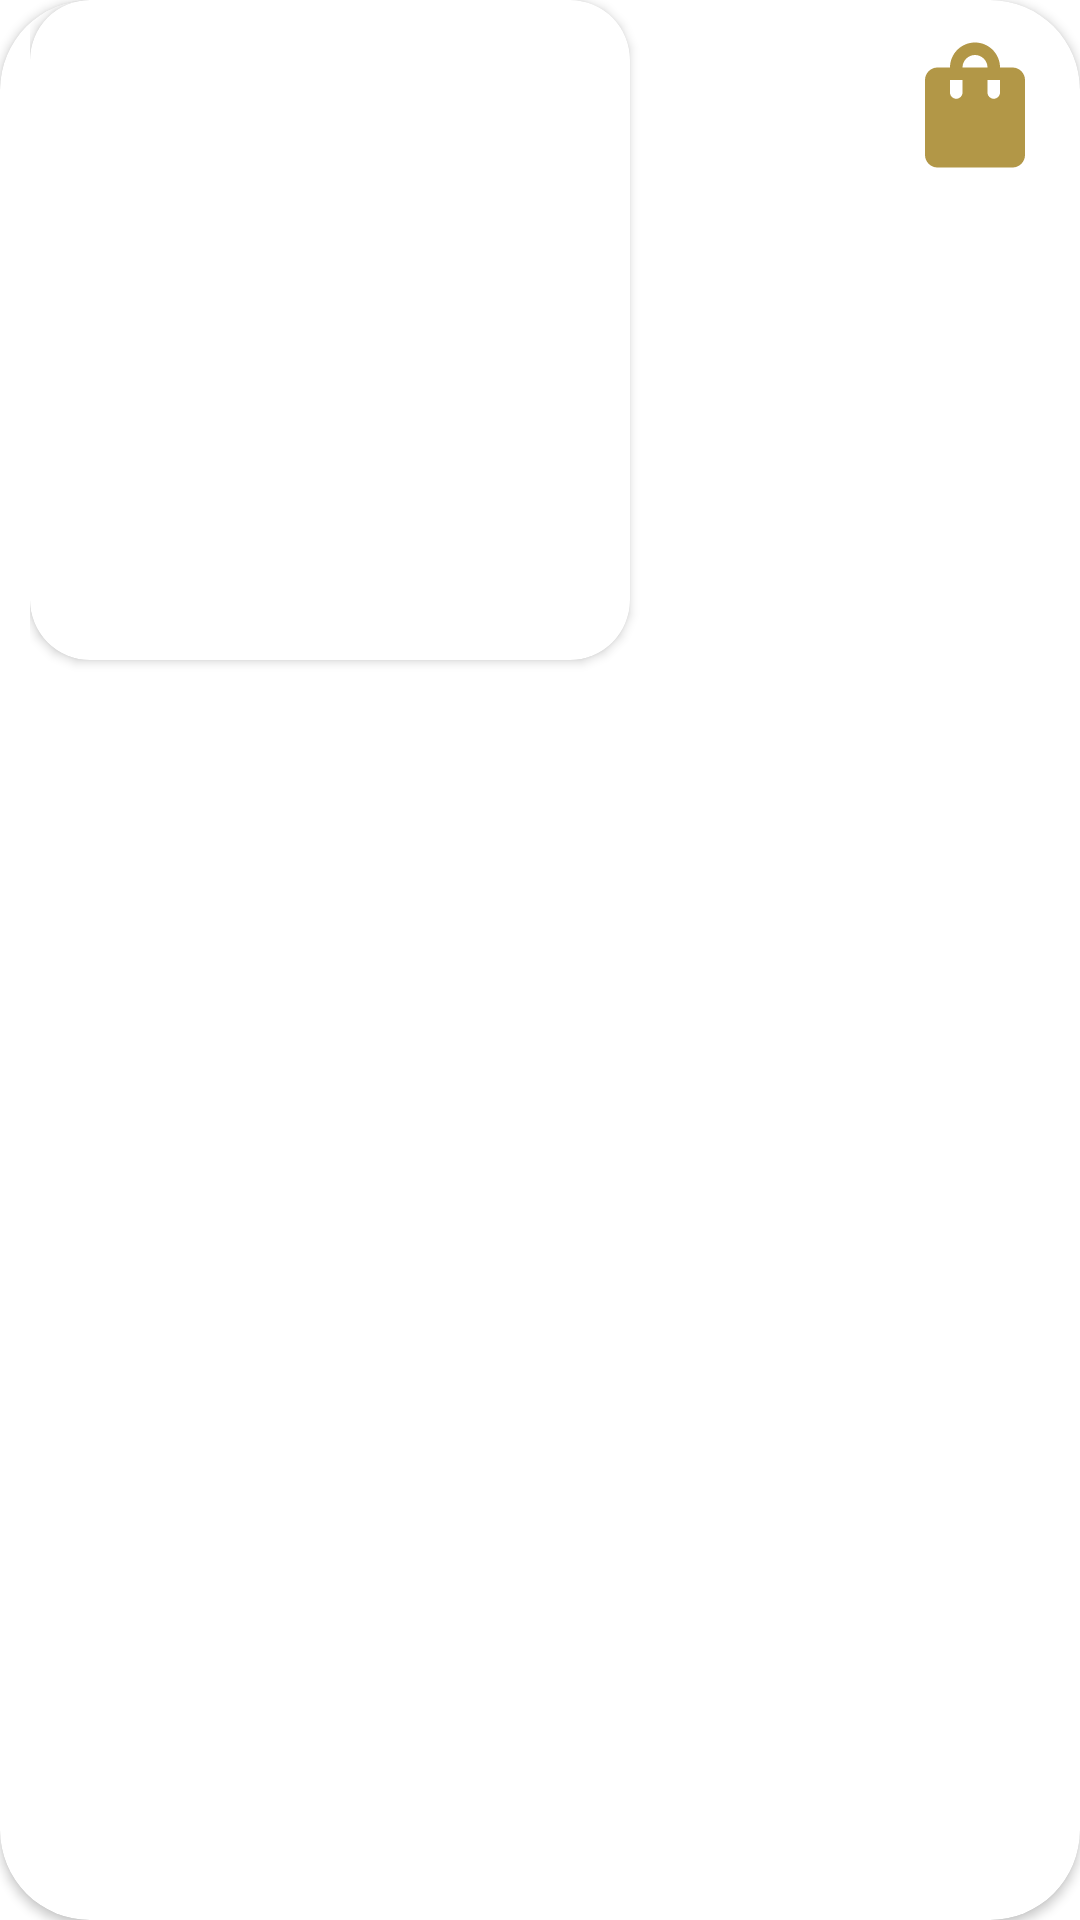

Where icons sit on this 1080×1920 app screen, as (x1, y1, x2, y2):
shopping bag: (925, 42, 1025, 168)
